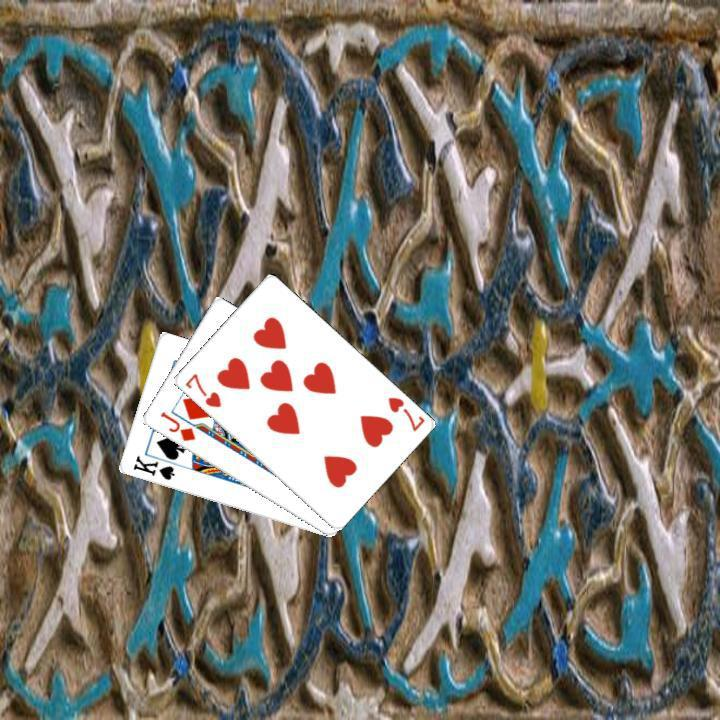7: (383, 392, 427, 433), (180, 369, 223, 410)
J: (155, 407, 197, 443)
K: (128, 451, 176, 482)
